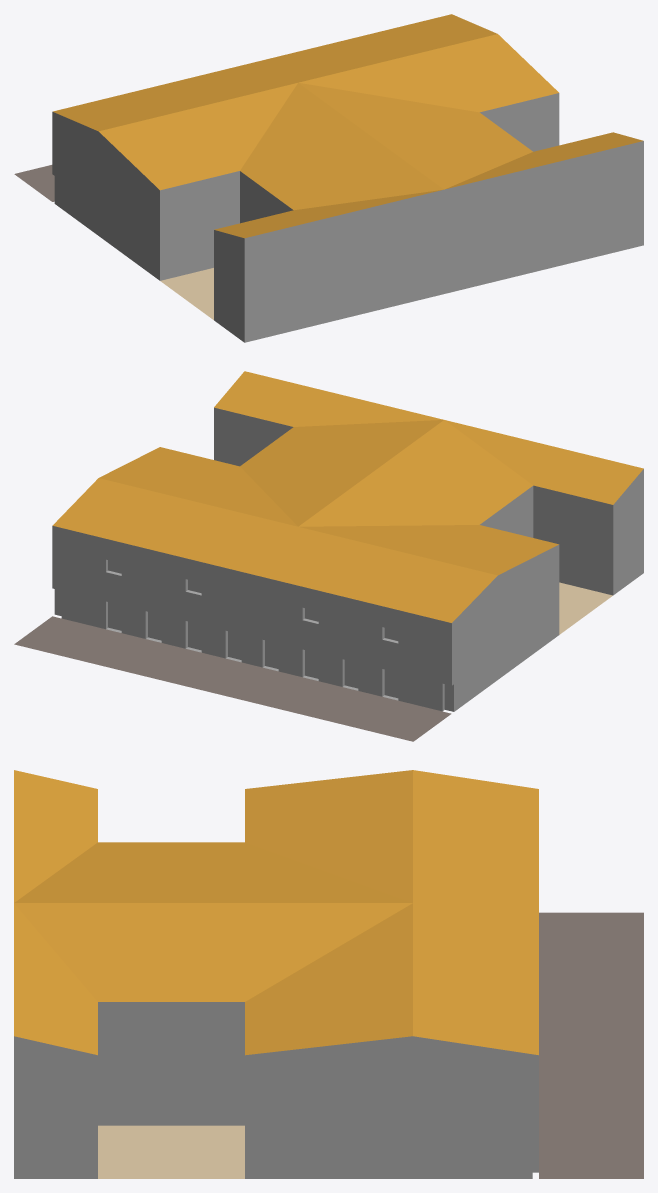
3 views of the same model, one above another, from view 1: azimuth 30°, elevation 25°; view 2: azimuth 150°, elevation 25°; view 3: azimuth 270°, elevation 25° (orthographic). The views are drawn at different scales.
Parts seen in each view (by area): view 1: rr22; view 2: rr22; view 3: rr22.
Boxes of the visible parts, left/top/right/bottom form: rr22: left=14, top=14, right=643, bottom=342; rr22: left=14, top=371, right=643, bottom=741; rr22: left=14, top=770, right=643, bottom=1178.
Bounding box in the file's own units: 30 × 7.5 × 30.
